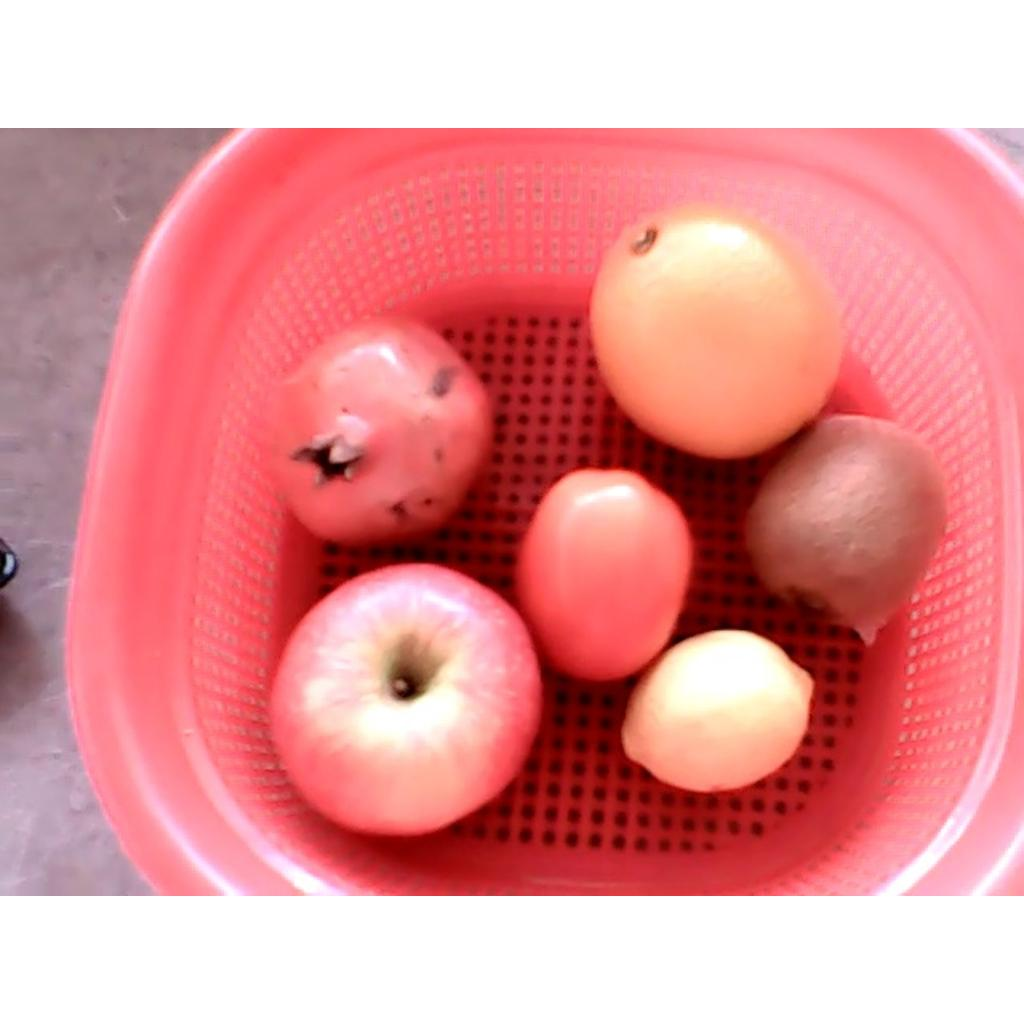apple: (269, 563, 542, 836)
kiwi: (743, 413, 948, 629)
lemon: (622, 628, 814, 792)
orange: (587, 202, 846, 459)
pomegranate: (261, 315, 494, 547)
tomato: (512, 470, 693, 681)
